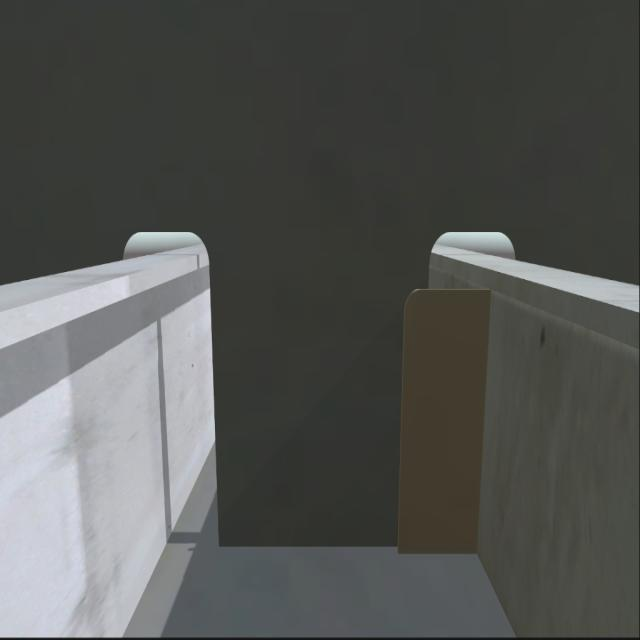fillet_yong_jeop_jang: (213, 536, 473, 558)
longi_yong_jeop_jang: (464, 289, 496, 553)
plate_CP05: (393, 288, 487, 556)
